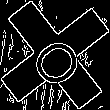O_NE: (21, 22, 89, 88)
